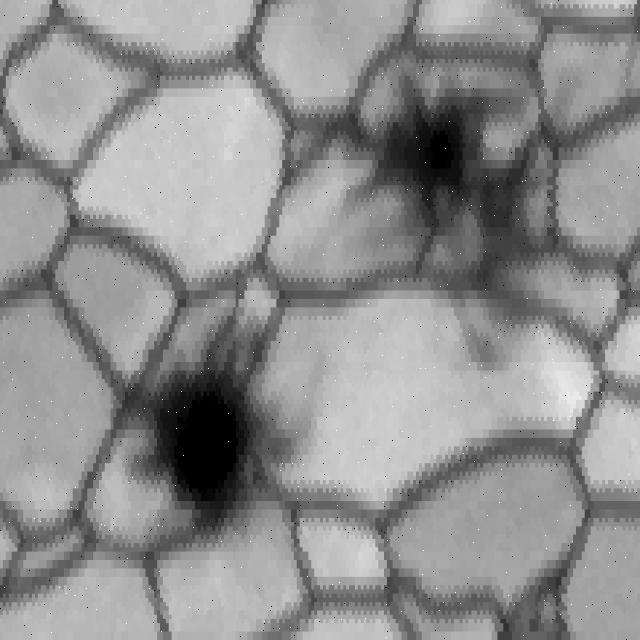good_void: (344, 47, 578, 410), (115, 291, 308, 552)
